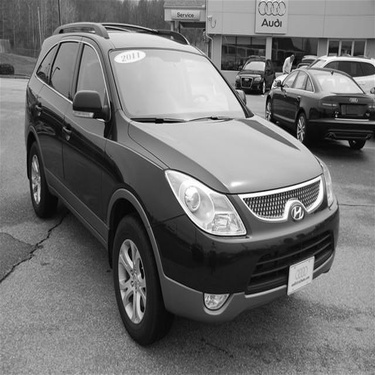car: (14, 21, 342, 347), (263, 63, 373, 152), (305, 56, 371, 105), (219, 56, 280, 98)
